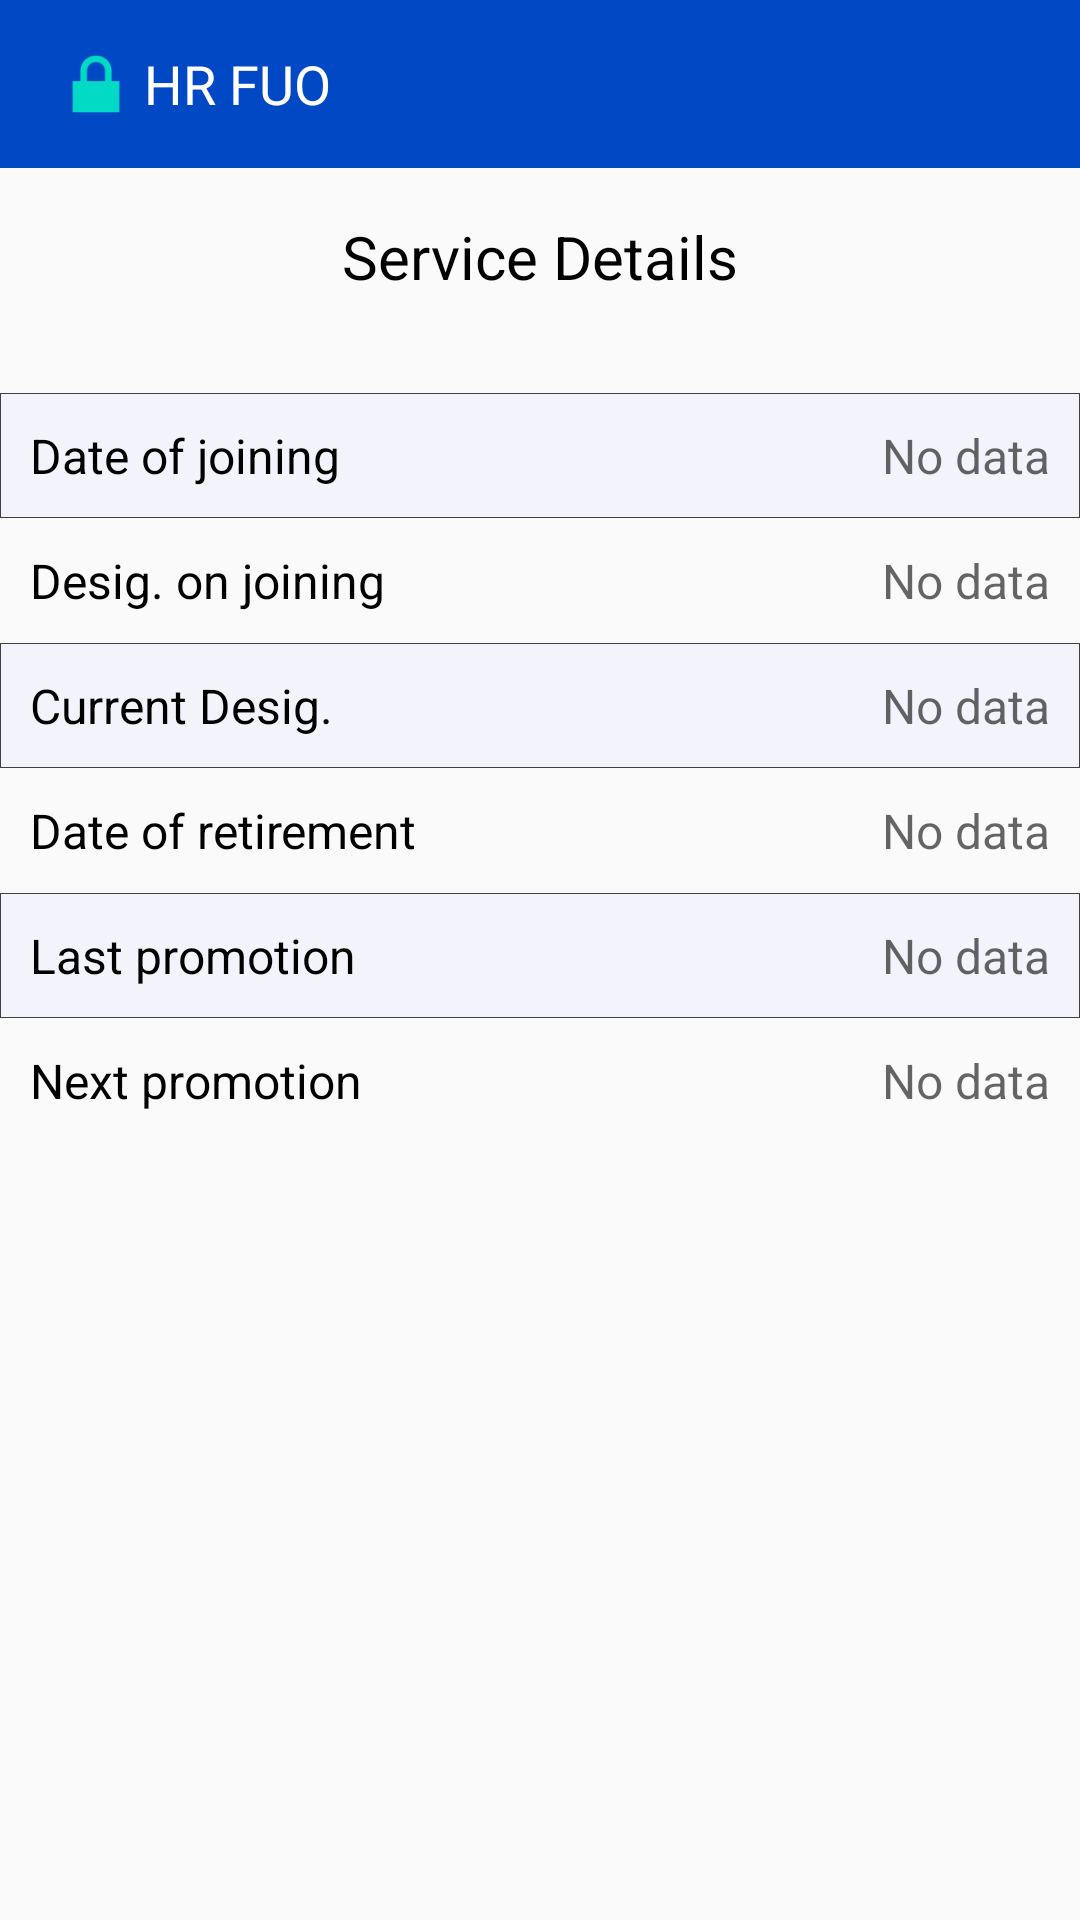

Where to tap for icons on this 1080px x 1920px app screen, as (x,y):
lock: (96,84)
